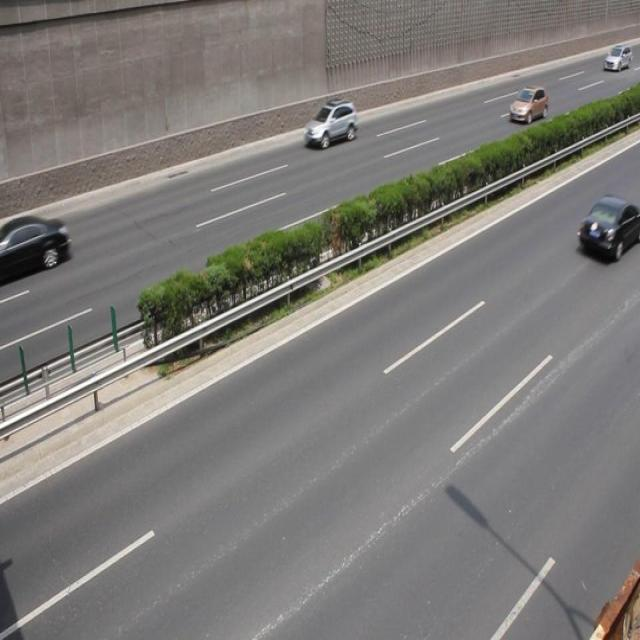car: (1, 213, 67, 280), (577, 194, 632, 263), (304, 99, 356, 149), (508, 86, 547, 124)
